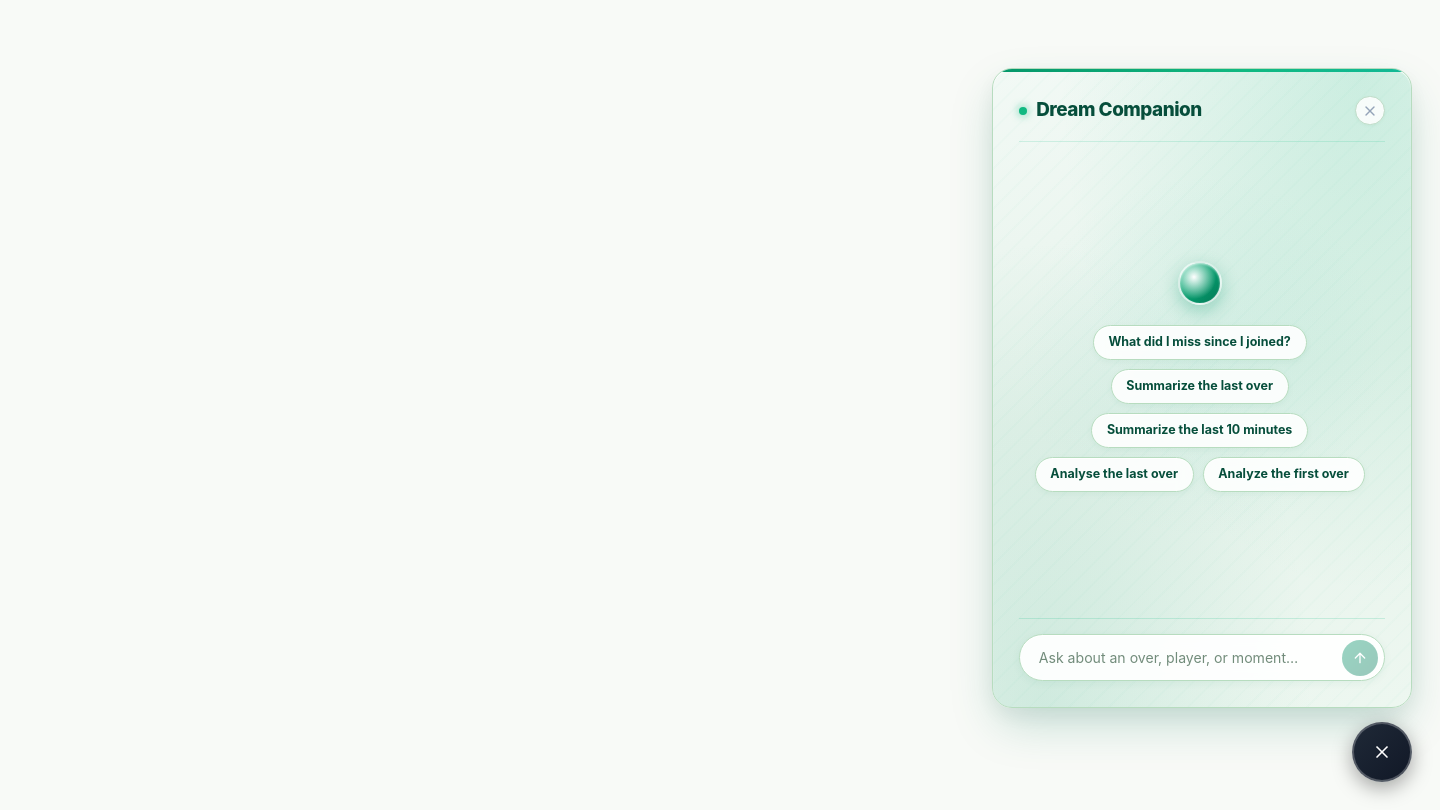
Test case: MatchCompanionChat › renders AI unavailable notice when receiving a 503 error
Click the button "Summarize the last over" at (1200, 387), box x1=1110 y1=369 x2=1289 y2=404
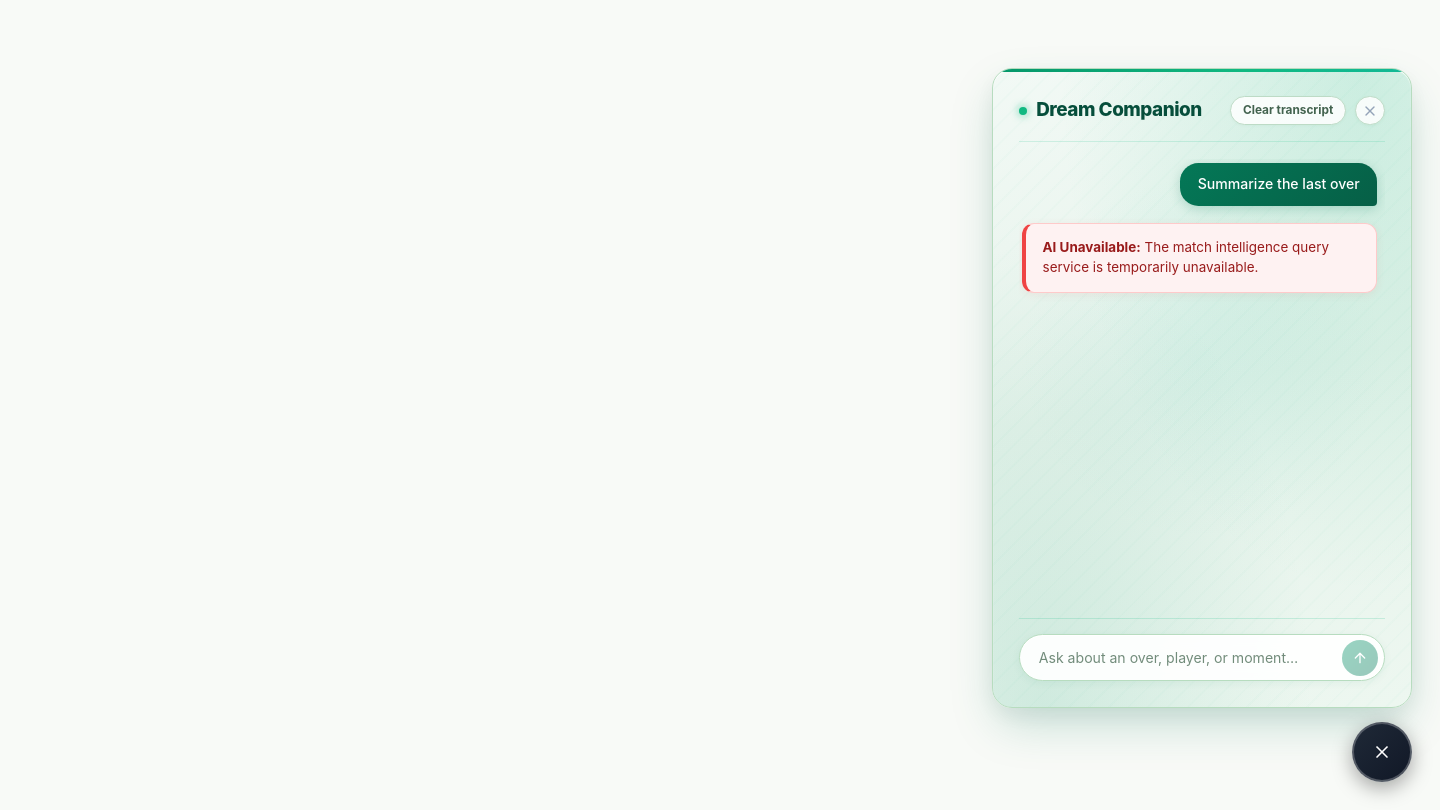
Result: the text "The match intelligence query service is temporarily unavailable" is shown at x1=1043 y1=239 x2=1329 y2=275
